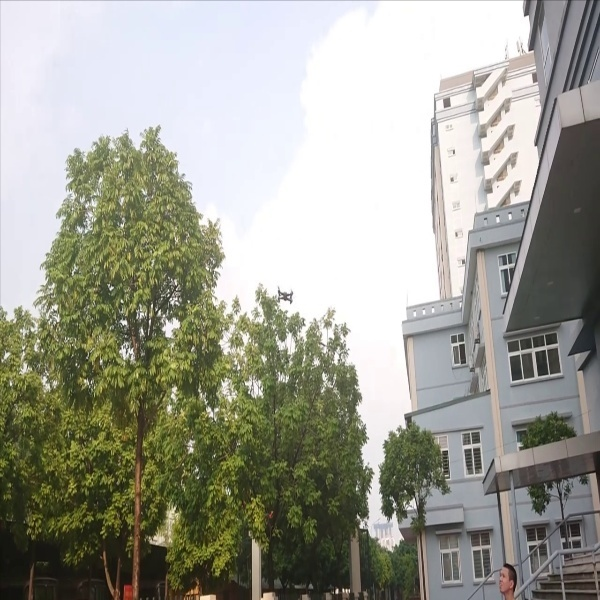drone: (275, 284, 293, 304)
